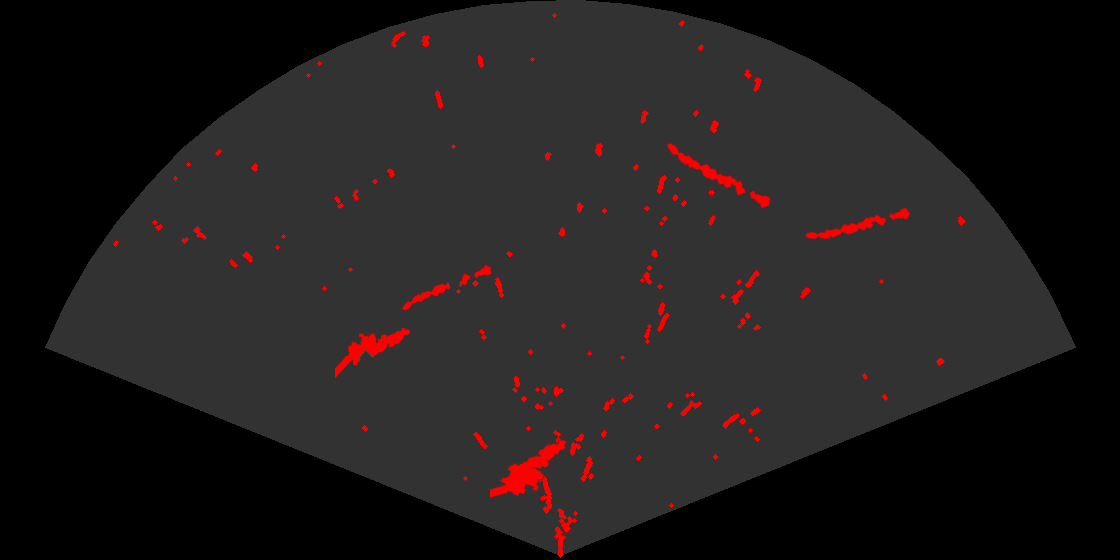chain: (665, 142, 773, 210), (400, 263, 493, 312), (804, 206, 912, 241)
frogman: (490, 438, 568, 500), (335, 326, 412, 380)
